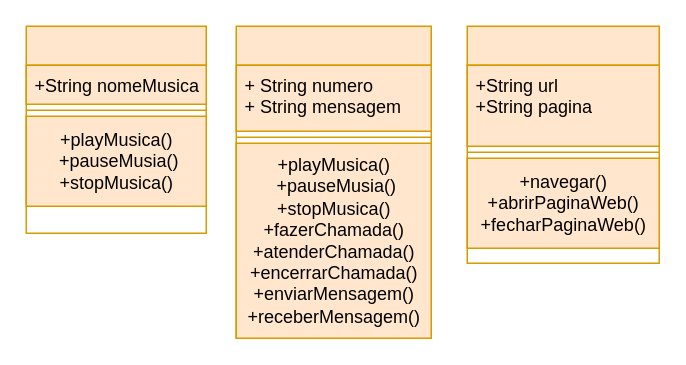
Image size: 686x365. Some labels were removed from this diagram. Each missing label, with the box of its shape:
AparelhoTelefonico: (235, 25, 431, 338)
Navegador Internet: (466, 25, 659, 263)
Reprodutor Musical: (25, 25, 206, 233)
